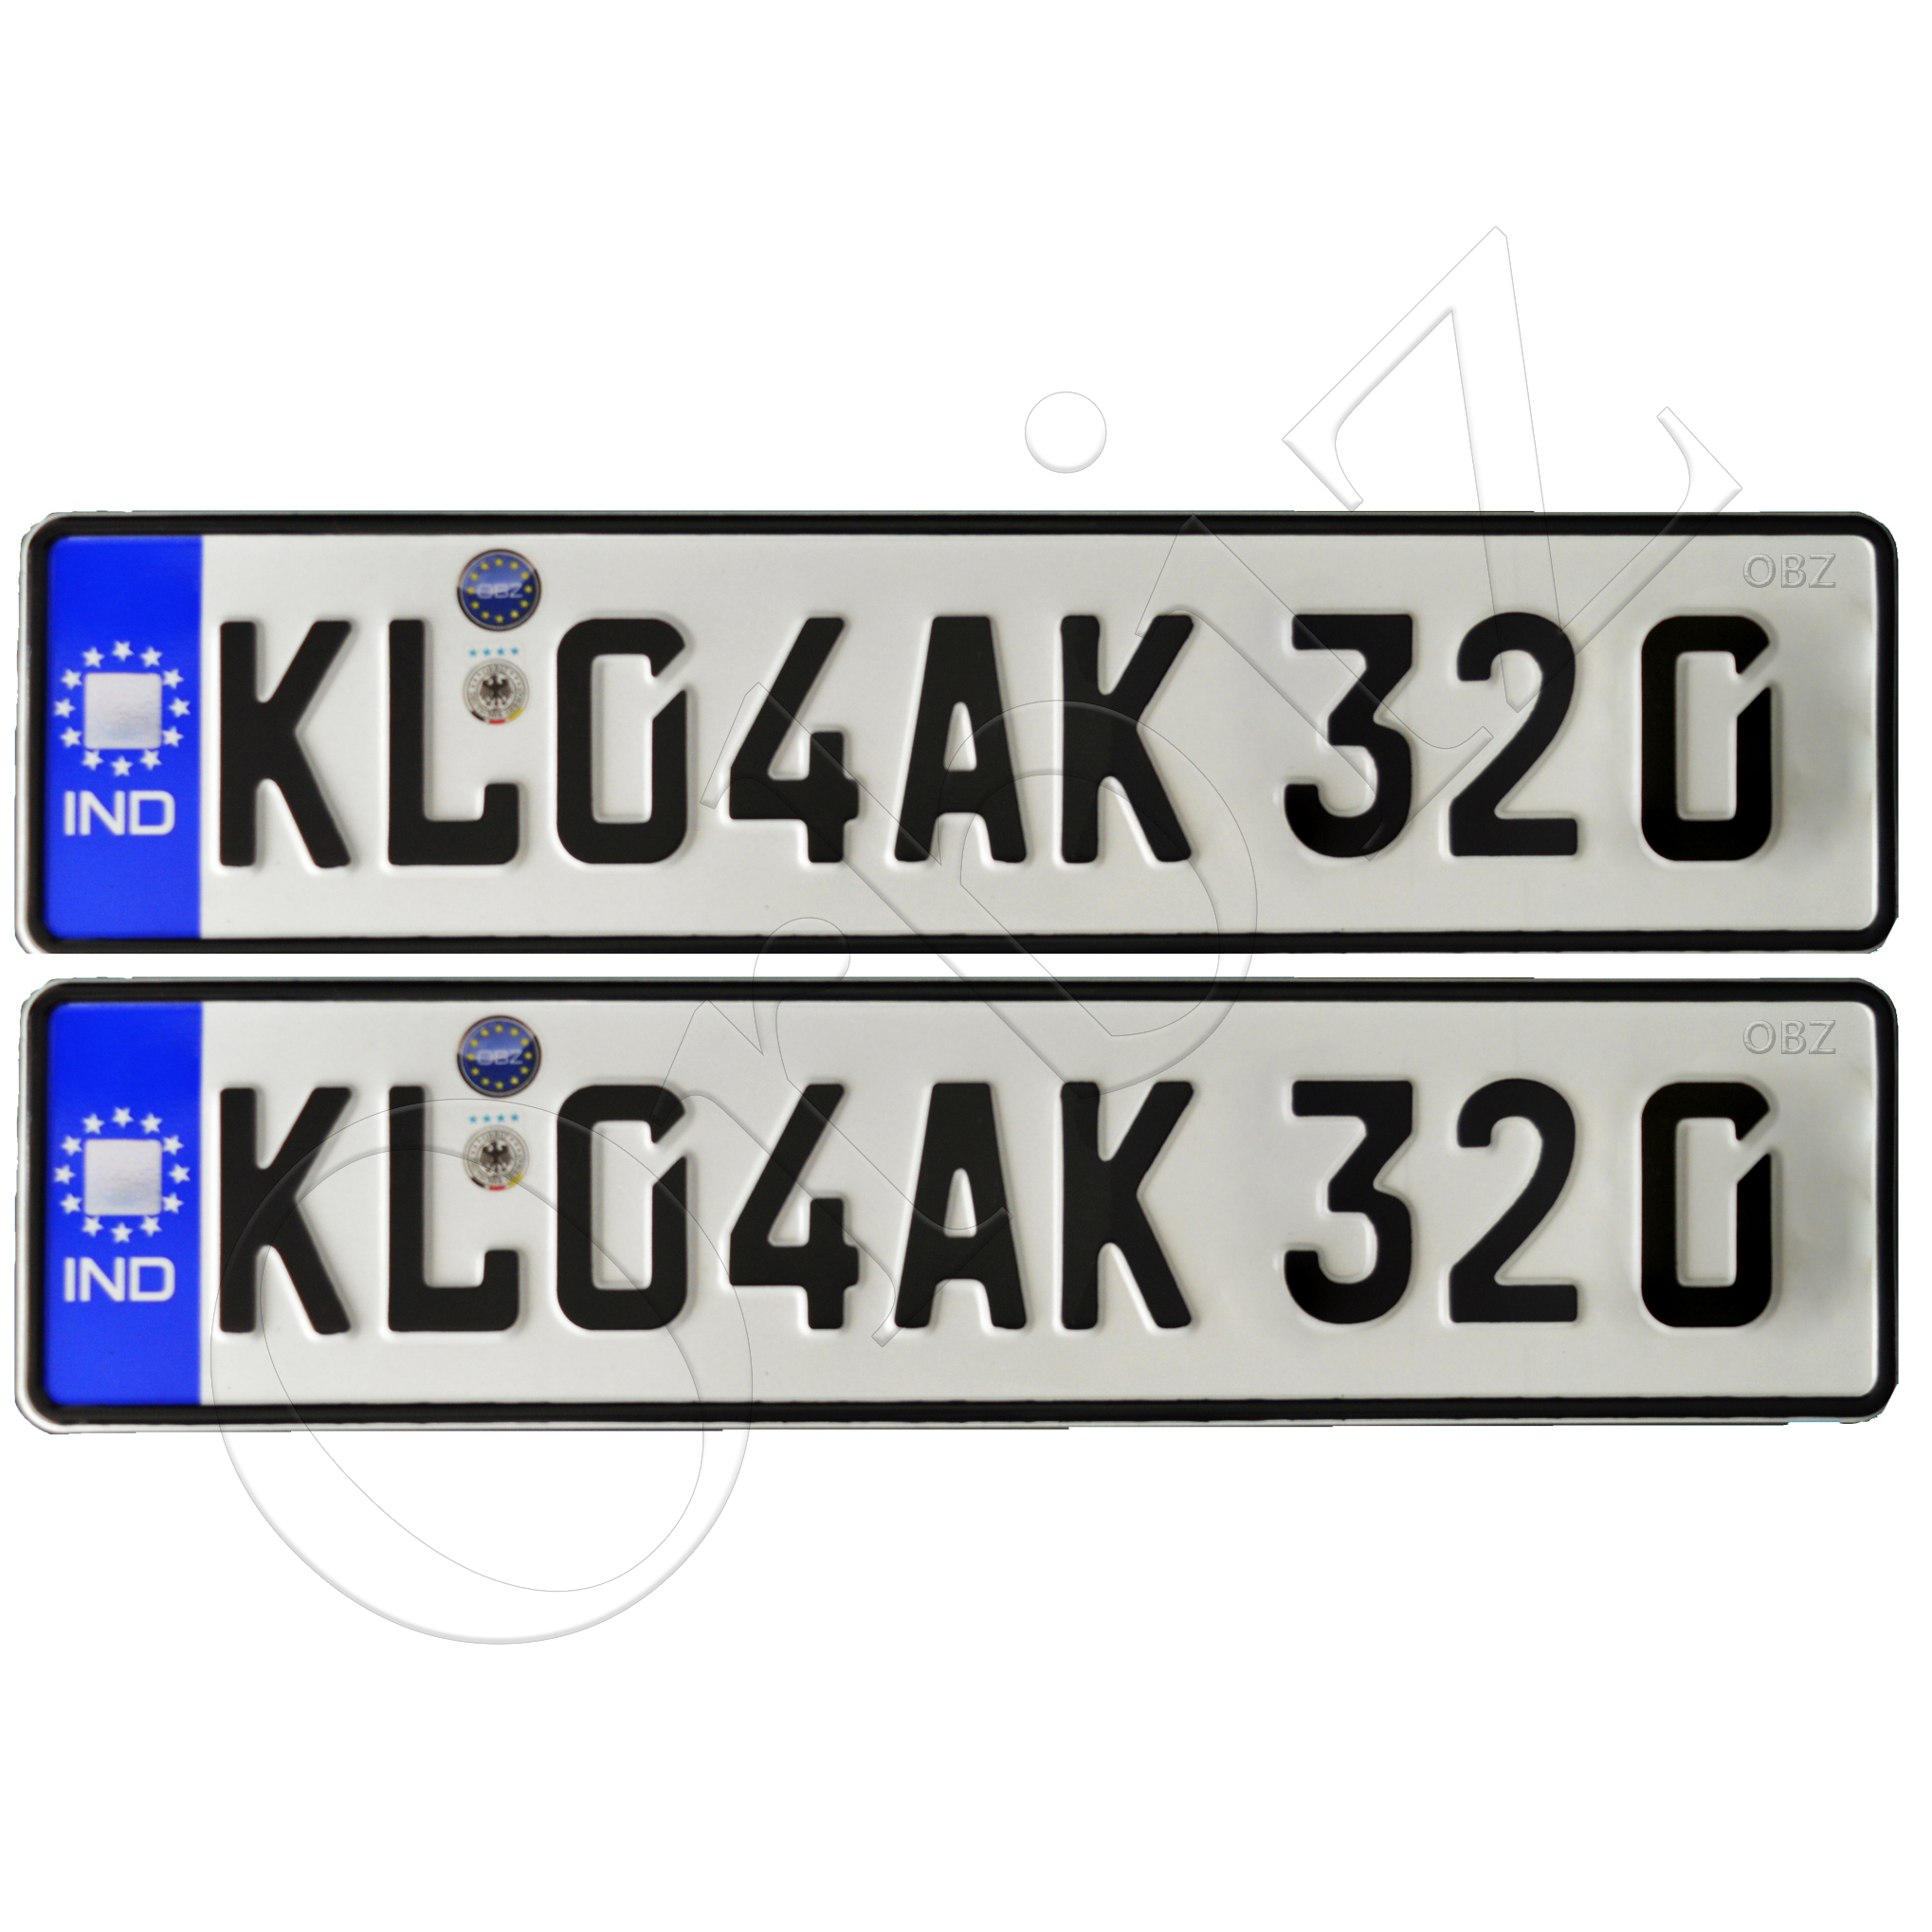inlp: (5, 951, 1914, 1457), (3, 496, 1920, 968)
